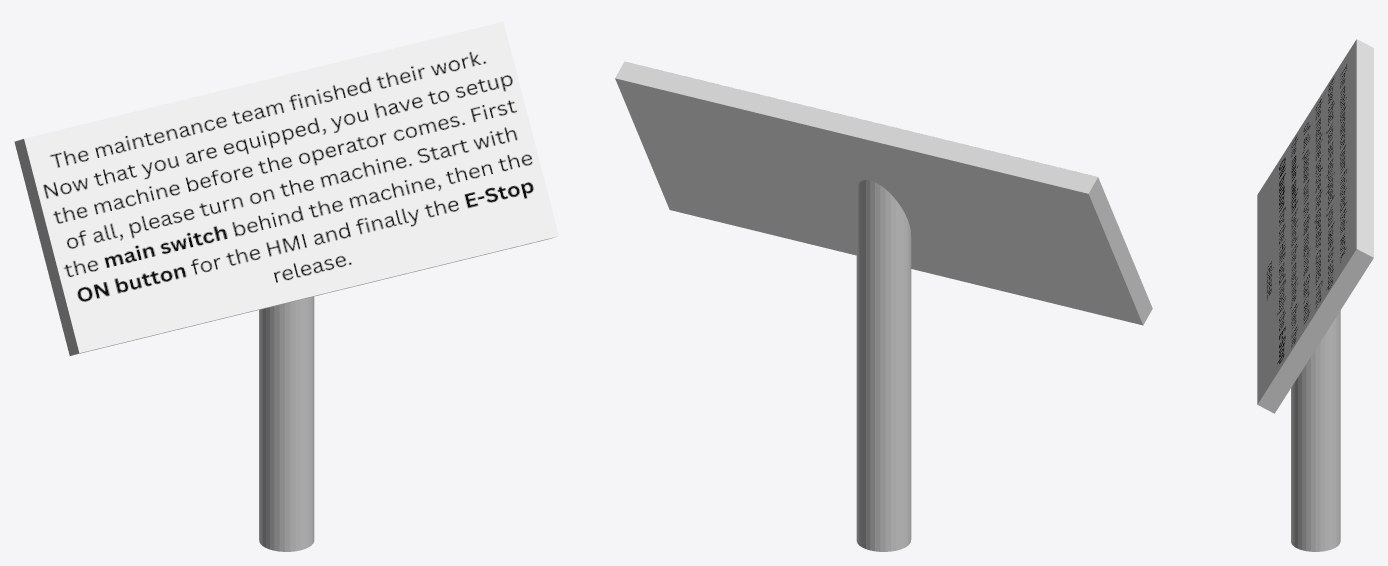
The model's file is ScenarioPanelSecond.glb.
The picture shows the model from 3 angles, left to right: view 1: azimuth 30°, elevation 25°; view 2: azimuth 150°, elevation 25°; view 3: azimuth 270°, elevation 25°; orthographic projection. The views are drawn at different scales.
Parts seen in each view (by area): view 1: TextPlane, Pole, Panel; view 2: Panel, Pole; view 3: TextPlane, Pole, Panel.
Part boxes in pixels (bbox=[...]): TextPlane: bbox=[24, 22, 558, 352]; Pole: bbox=[259, 296, 314, 551]; Panel: bbox=[14, 139, 556, 355]; Panel: bbox=[615, 61, 1152, 325]; Pole: bbox=[856, 180, 911, 551]; TextPlane: bbox=[1257, 39, 1356, 404]; Pole: bbox=[1291, 310, 1340, 551]; Panel: bbox=[1257, 39, 1373, 413].
Bounding box in the file's own units: 1 × 0.9388 × 0.3342.
Materials: 2 (1 with a texture image).
